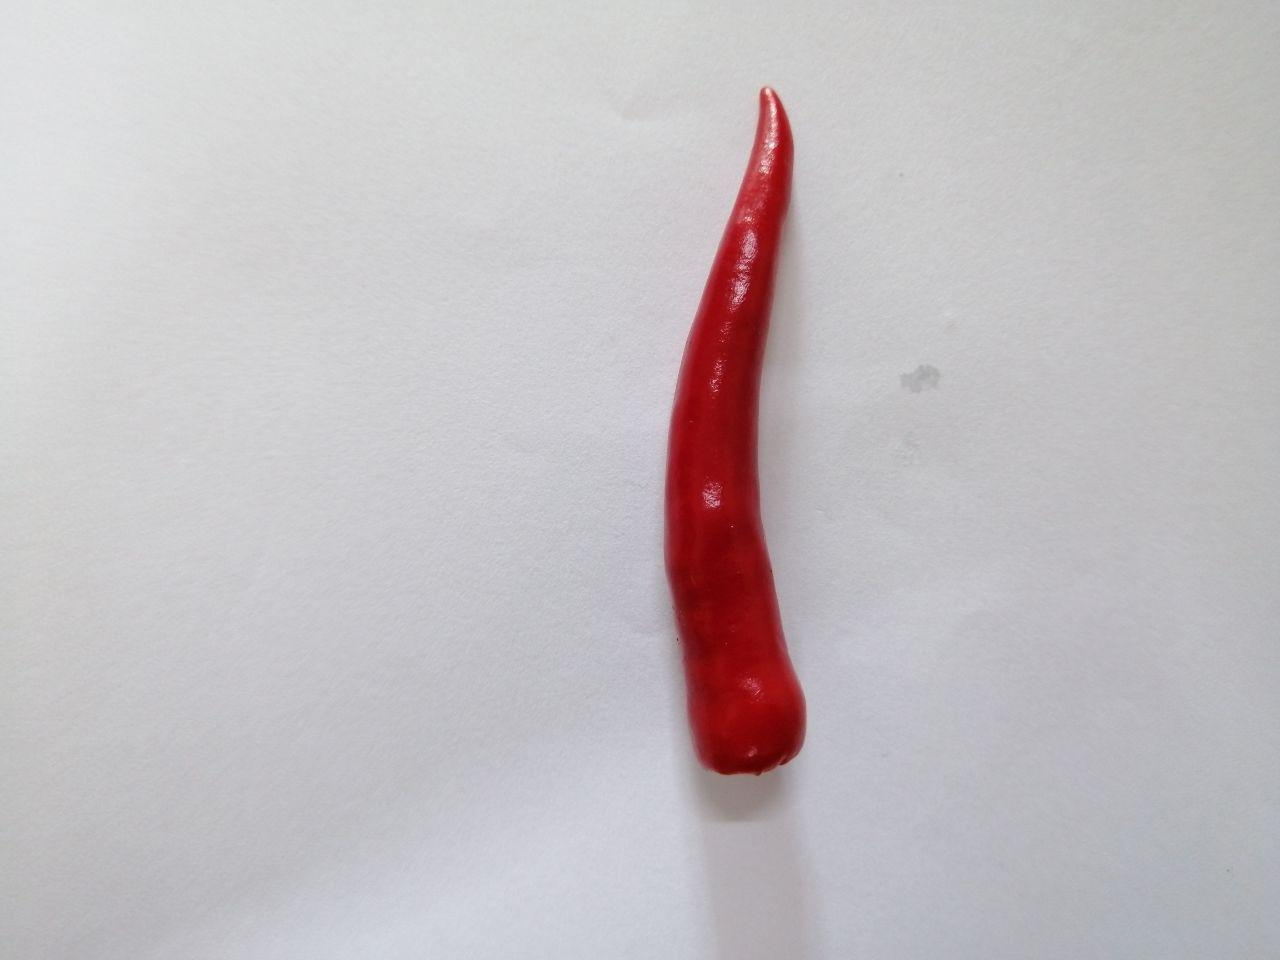lada merah: (665, 72, 828, 806)
